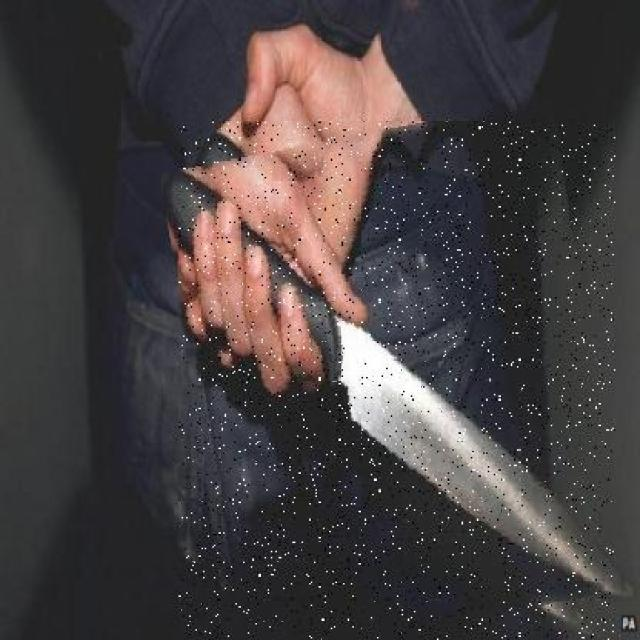knife: (179, 120, 616, 640)
